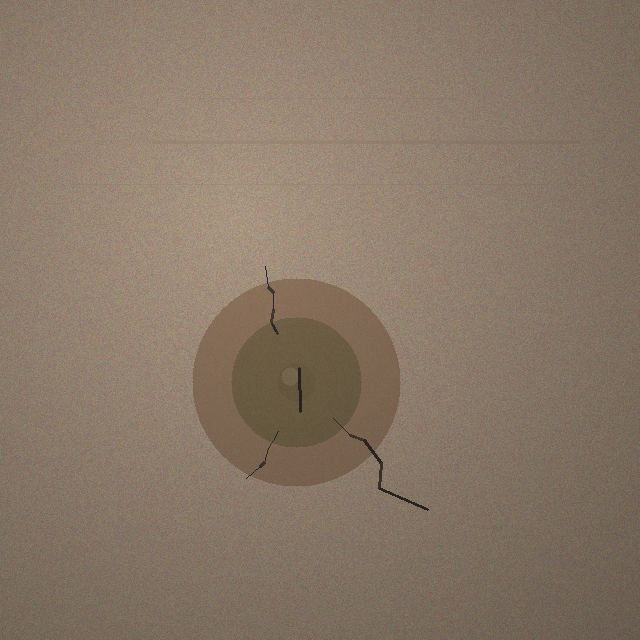crack: (192, 278, 400, 486)
